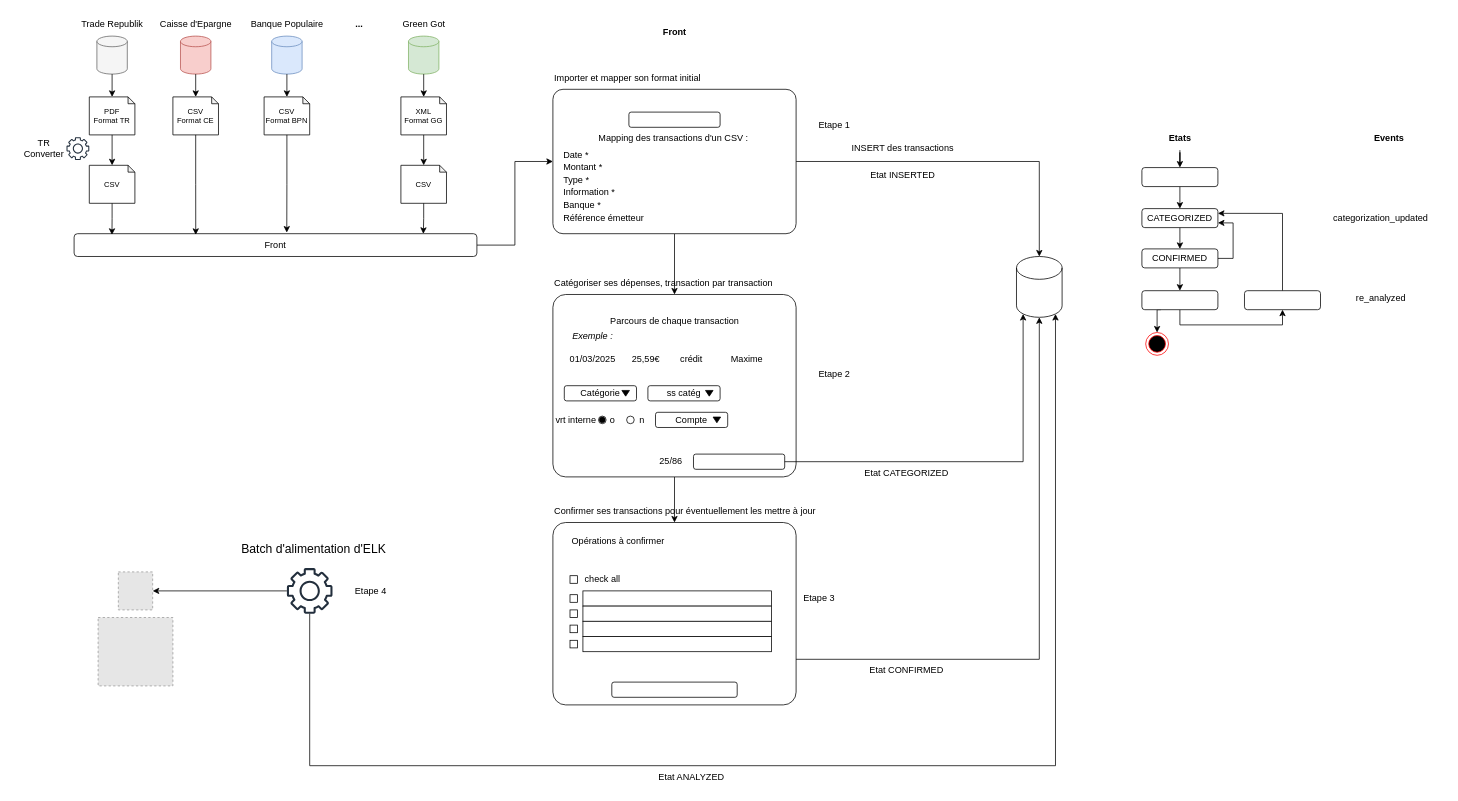
This 1458x801 diagram has some shape labels left out. Grey dashed boxes stand in for pictures. Here are the shapes that lost their labels. From the top down, the box of each, then its label:
(628, 111, 720, 127): Import CSV
(1141, 167, 1218, 187): INSERTED
(1141, 290, 1218, 310): ANALYZED
(1244, 290, 1320, 310): TO_REANALYZE
(693, 453, 785, 469): Opération suivante
(611, 681, 737, 697): Confirmer les opérations
